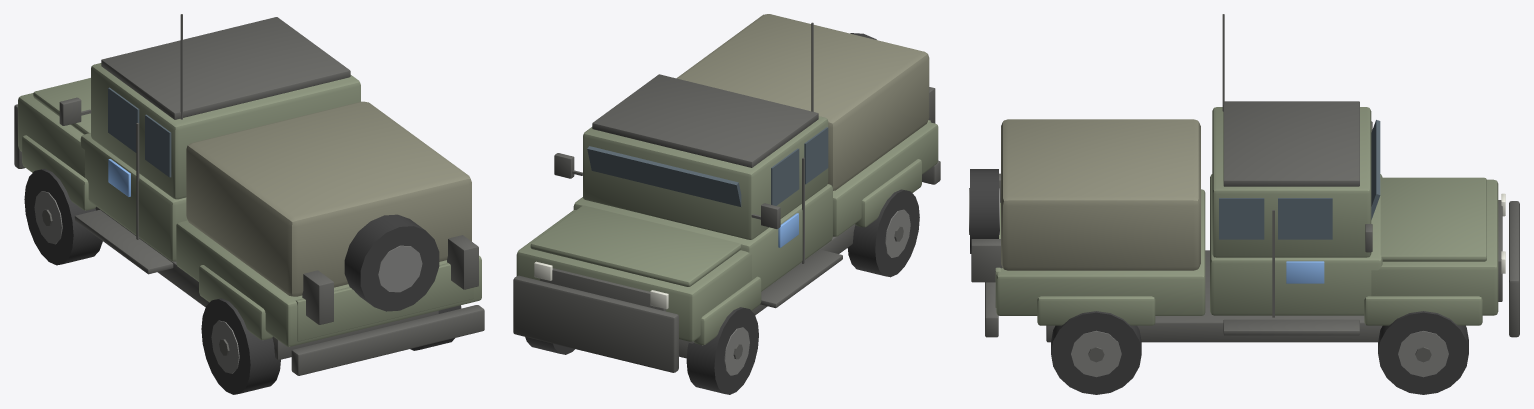
The model's file is vehicle_transport.glb.
3 renders of one model, left to right at view 1: azimuth 30°, elevation 25°; view 2: azimuth 150°, elevation 25°; view 3: azimuth 270°, elevation 25°, orthographic. The views are drawn at different scales.
Visible parts, largest first — view 1: Vehicle; view 2: Vehicle; view 3: Vehicle.
Boxes of the visible parts, left/top/right/bottom form: Vehicle: left=14, top=14, right=484, bottom=394; Vehicle: left=513, top=14, right=940, bottom=394; Vehicle: left=969, top=14, right=1519, bottom=394.
Bounding box in the file's own units: 2.89 × 3.6 × 6.06.
